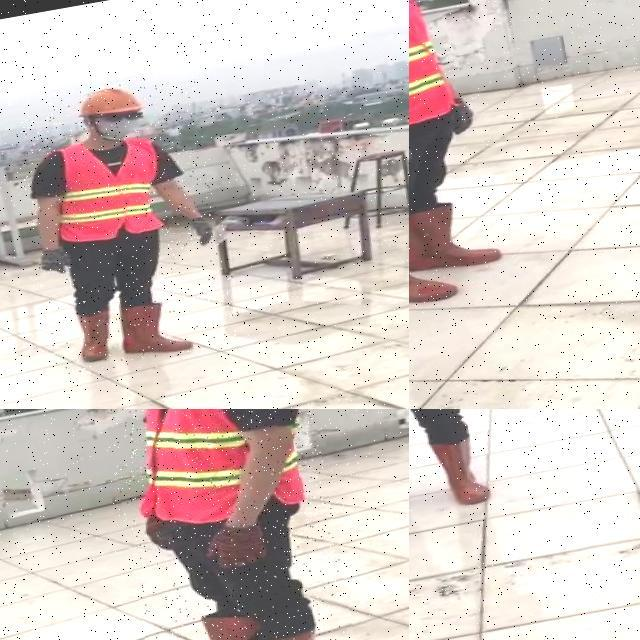boots: (409, 191, 504, 277), (425, 432, 498, 511), (114, 294, 194, 362), (409, 220, 461, 314), (152, 609, 271, 640), (69, 306, 116, 366)
helmet: (72, 80, 148, 122)
vest: (116, 409, 318, 534), (46, 127, 172, 245), (409, 0, 459, 143)
